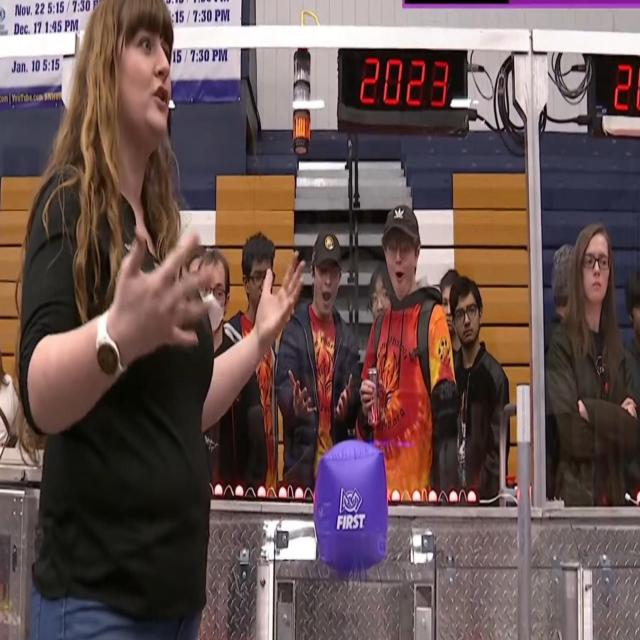frc_cube: (312, 438, 386, 570)
